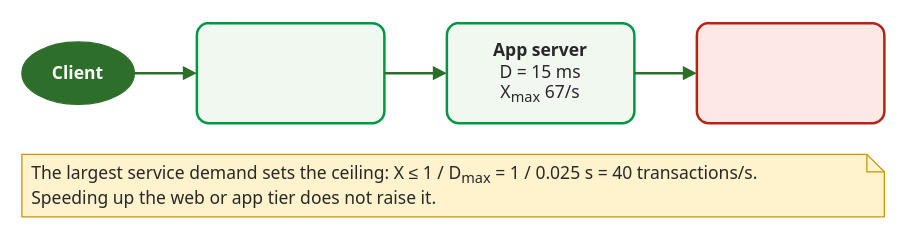
This 908x239 diagram has some shape labels left out. Here are the shapes that lost their labels. From the top down, the centre of each, then its label:
At (290,72): "Web server D = 5 ms X max 200/s".
At (790,72): "Database D = 25 ms X max 40/s".
